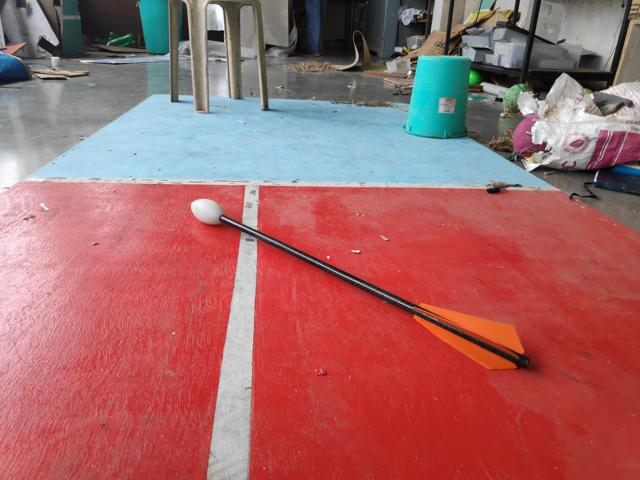Head: (188, 197, 227, 229)
Tail: (409, 298, 532, 373)
